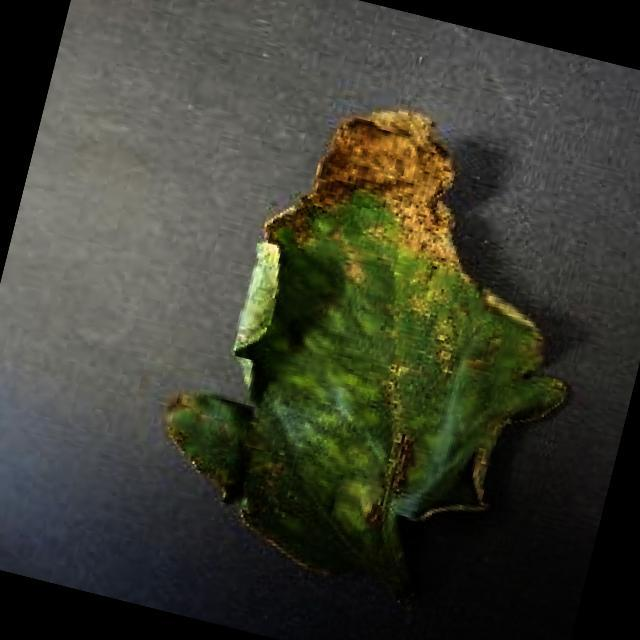Tomato bacterial spot leaf: (120, 58, 640, 640)
